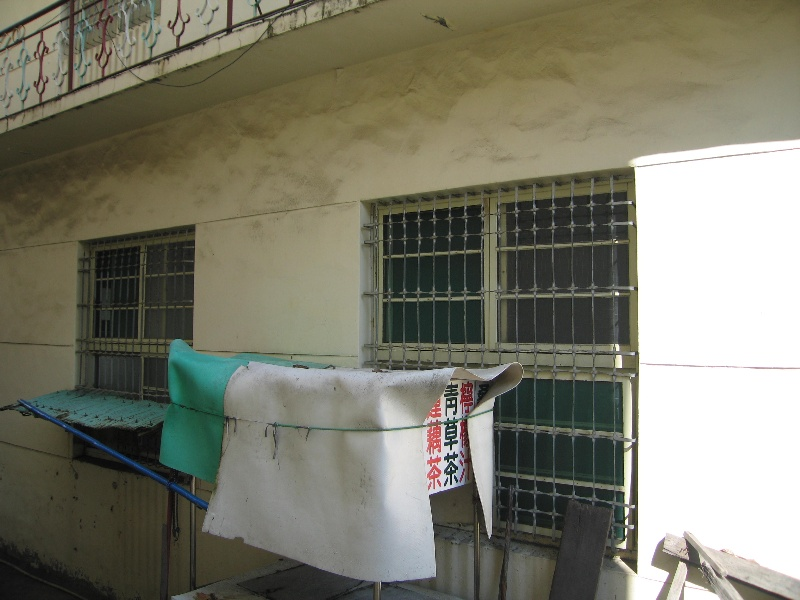plastic_bag: (161, 335, 526, 586)
